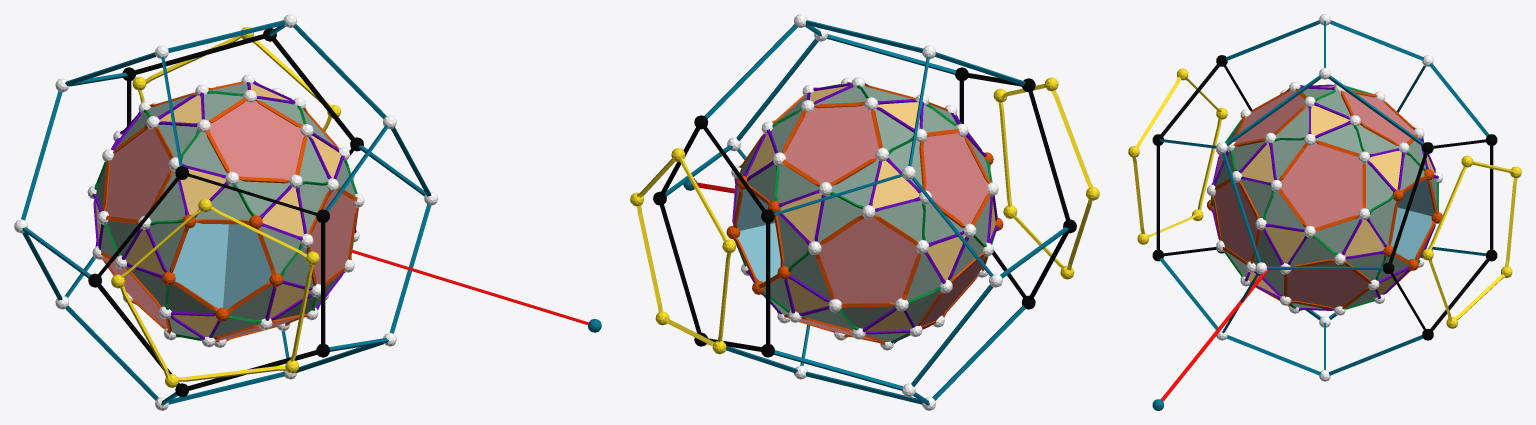
Rendered from dodec-rotations.gltf.
3 renders of one model, left to right at view 1: azimuth 30°, elevation 25°; view 2: azimuth 150°, elevation 25°; view 3: azimuth 270°, elevation 25°, orthographic. The views are drawn at different scales.
Bounding box in the file's own units: 78.01 × 60.07 × 68.54.
